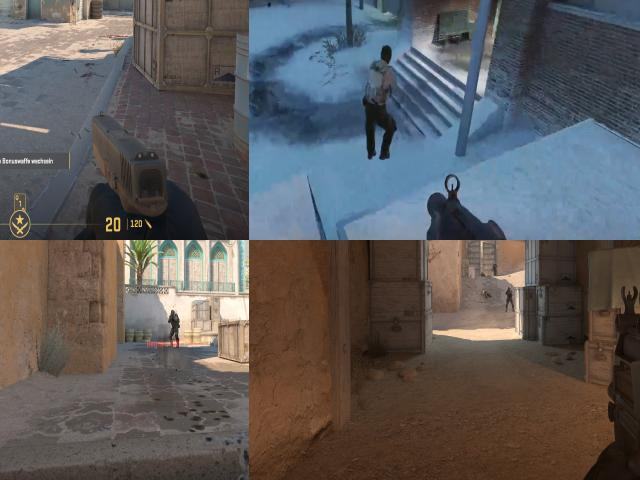CT: (169, 310, 179, 342), (506, 286, 513, 312), (494, 262, 497, 276)
CT-Head: (171, 310, 175, 316), (508, 287, 510, 291), (495, 262, 496, 263)
Dead: (482, 288, 490, 297), (481, 272, 486, 276)
T: (361, 57, 400, 121)
T-Head: (378, 40, 396, 72)
